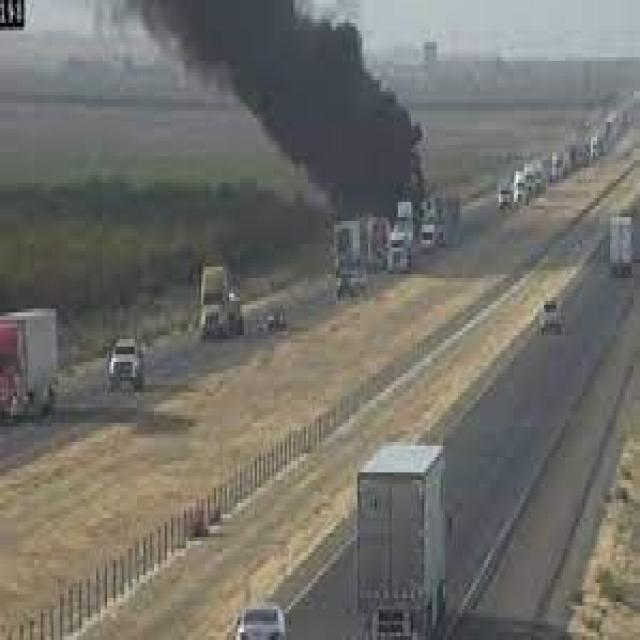smoke: (101, 4, 430, 213)
